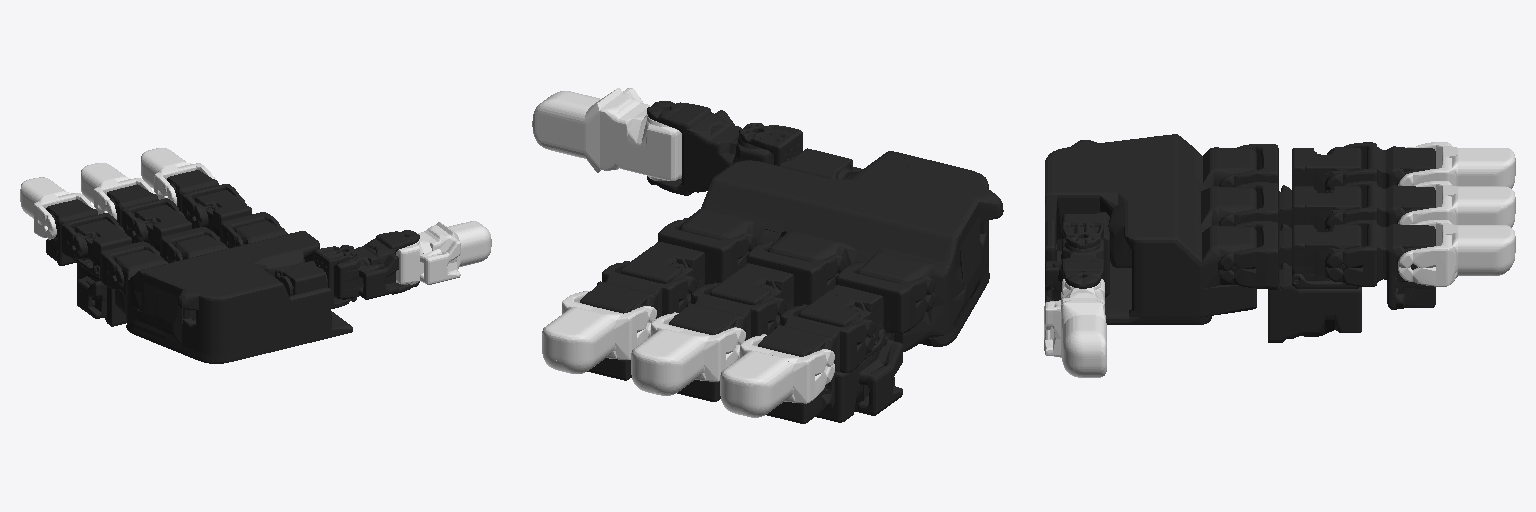
robot.urdf — onshape:
<robot name="onshape">
<link name="world"/>
<joint name="world_to_palm" type="fixed">
<parent link="world"/>
<child link="palm_lower"/>
<origin xyz="0.037 0.05 -0.037" rpy="-3.141592653589793 0 1.5707963267948966" />
</joint>


<link name="palm_lower">
<visual>
<origin xyz="-0.020095249652862544332 0.025757756134899473244 -0.034722403578460216134" rpy="0 -0 0" />
<geometry>
<mesh filename="palm_lower.obj"/>
</geometry>
<material name="black">
<color rgba="0.2 0.2 0.2 1"/>
</material>
</visual>
<collision>
<origin xyz="-0.020095249652862544332 0.025757756134899473244 -0.034722403578460216134" rpy="0 -0 0" />
<geometry>
<mesh filename="palm_lower.obj"/>
</geometry>
</collision>
<inertial>
<origin xyz="0 0 0" rpy="0 0 0"/>
<mass value="0.237" />
<inertia ixx="0.000354094" ixy="-0.000001193"  ixz="-0.000002445" iyy="0.000260915" iyz="-0.000002905" izz="0.000529257" />
</inertial>
</link>

<link name="mcp_joint">
<visual>
<origin xyz="0.0084069022611744960438 0.0077662438597169954416 0.014657354985032912051" rpy="1.6375789613220999807e-15 -1.0210473302491019535e-30 1.7177968783327987474e-31" />
<geometry>
<mesh filename="mcp_joint.obj"/>
</geometry>
<material name="black">
<color rgba="0.2 0.2 0.2 1"/>
</material>
</visual>
<collision>
<origin xyz="0.0084069022611744960438 0.0077662438597169954416 0.014657354985032912051" rpy="1.6375789613220999807e-15 -1.0210473302491019535e-30 1.7177968783327987474e-31" />
<geometry>
<mesh filename="mcp_joint.obj"/>
</geometry>
</collision>
<inertial>
<origin xyz="0 0 0" rpy="0 0 0"/>
<mass value="0.044" />
<inertia ixx="0.000011499" ixy="0.000003049"  ixz="0.000000121" iyy="0.000007796" iyz="0.000000112" izz="0.000014759" />
</inertial>
</link>

<link name="pip">
<visual>
<origin xyz="0.0096433630922713280131 0.00029999999999998951117 0.00078403401041737645627" rpy="-1.570796326794896558 -1.570796326794896336 0" />
<geometry>
<mesh filename="pip.obj"/>
</geometry>
<material name="black">
<color rgba="0.2 0.2 0.2 1"/>
</material>
</visual>
<collision>
<origin xyz="0.0096433630922713280131 0.00029999999999998951117 0.00078403401041737645627" rpy="-1.570796326794896558 -1.570796326794896336 0" />
<geometry>
<mesh filename="pip.obj"/>
</geometry>
</collision>
<inertial>
<origin xyz="0 0 0" rpy="0 0 0"/>
<mass value="0.032" />
<inertia ixx="0.000004798" ixy="0.000000012"  ixz="0.000000004" iyy="0.000002862" iyz="0.000000011" izz="0.000004234" />
</inertial>
</link>

<link name="dip">
<visual>
<origin xyz="0.021133352895225002849 -0.0084321191467048792201 0.0097850881620952408213" rpy="-3.141592653589793116 4.5075111242164408299e-32 4.4395481053923607589e-32" />
<geometry>
<mesh filename="dip.obj"/>
</geometry>
<material name="black">
<color rgba="0.2 0.2 0.2 1"/>
</material>
</visual>
<collision>
<origin xyz="0.021133352895225002849 -0.0084321191467048792201 0.0097850881620952408213" rpy="-3.141592653589793116 4.5075111242164408299e-32 4.4395481053923607589e-32" />
<geometry>
<mesh filename="dip.obj"/>
</geometry>
</collision>
<inertial>
<origin xyz="0 0 0" rpy="0 0 0"/>
<mass value="0.037" />
<inertia ixx="0.000005542" ixy="-0.000000607"  ixz="-0.000000017" iyy="0.000005727" iyz="-0.000000023" izz="0.000006682" />
</inertial>
</link>

<link name="fingertip">
<visual>
<origin xyz="0.013286424108533503169 -0.0061142383865419869249 0.014499999999999497666" rpy="3.141592653589793116 1.1993117970061734707e-33 4.4395481053923607589e-32" />
<geometry>
<mesh filename="fingertip.obj"/>
</geometry>
<material name="white">
<color rgba=".9 .9 .9 1"/>
</material>
</visual>
<!-- <collision>
<origin xyz="0.013286424108533503169 -0.0061142383865419869249 0.014499999999999497666" rpy="3.141592653589793116 1.1993117970061734707e-33 4.4395481053923607589e-32" />
<geometry>
<mesh filename="fingertip.obj"/>
</geometry>
</collision> -->
<inertial>
<origin xyz="0 0 0" rpy="0 0 0"/>
<mass value="0.016" />
<inertia ixx="0.000003368" ixy="0.000000115"  ixz="0" iyy="0.000001556" iyz="0" izz="0.000002863" />
</inertial>
</link>

<joint name="0" type="revolute">
<origin xyz="-0.012200000000000007713 0.038099999999999994982 0.014500000000000000736" rpy="-1.570796326794896558 -1.0065212660796336576e-15 1.5707963267948943376" />
<parent link="mcp_joint" />
<child link="pip" />
<axis xyz="0 0 -1"/>
<limit effort="0.95" velocity="8.48" lower = "-1.047" upper = "1.047"/>
<joint_properties friction="0.0"/>
</joint>

<joint name="1" type="revolute">
<origin xyz="-0.0070952496528625457958 0.023057756134899472233 -0.01872240357846021927" rpy="1.5707963267948950037 1.5707963267948945596 0" />
<parent link="palm_lower" />
<child link="mcp_joint" />
<axis xyz="0 0 -1"/>
<limit effort="0.95" velocity="8.48" lower = "-0.314" upper = "2.23"/>
<joint_properties friction="0.0"/>
</joint>

<joint name="2" type="revolute">
<origin xyz="0.01499999999999996822 0.014299999999999904801 -0.012999999999999824196" rpy="1.5707963267948958919 -1.570796326794896336 0" />
<parent link="pip" />
<child link="dip" />
<axis xyz="0 0 -1"/>
<limit effort="0.95" velocity="8.48" lower = "-0.506" upper = "1.885"/>  
<joint_properties friction="0.0"/>
</joint>

<joint name="3" type="revolute">
<origin xyz="-4.0880582495572692636e-09 -0.036100004210367367397 0.00020000000000007858714" rpy="4.5935029425113685044e-17 -2.8730071914463794583e-16 4.4395481053923607589e-32" />
<parent link="dip" />
<child link="fingertip" />
<axis xyz="0 0 -1"/>
<limit effort="0.95" velocity="8.48" lower = "-0.366" upper = "2.042"/>   
<joint_properties friction="0.0"/>
</joint>


<link name="index_tip">
<!-- <visual>
<geometry>
<sphere radius="0.0134"/>
</geometry>
<material name="blue">
<color rgba="0.0 0.0 1.0 1.0"/>
</material>
</visual> -->
<collision>
<geometry>
<sphere radius="0.0134"/>
</geometry>
</collision>
<inertial>
<origin xyz="0 0 0" rpy="0 0 0"/>
<mass value="0.016" />
<inertia ixx="0.0" ixy="0.0"  ixz="0" iyy="0.0" iyz="0.0" izz="0.0" />
</inertial>
</link>

<joint name="index_tip_joint" type="fixed">
<parent link="fingertip"/>
<child link="index_tip"/>
<origin rpy="0 0 0" xyz="-0.0015 -0.0382 0.0145"/>
</joint>


<link name="mcp_joint_2">
<visual>
<origin xyz="0.0084069022611744960438 0.0077662438597169954416 0.014657354985032913786" rpy="1.6375789613220999807e-15 -1.0076465469034000467e-30 2.1209300131419907151e-61" />
<geometry>
<mesh filename="mcp_joint.obj"/>
</geometry>
<material name="black">
<color rgba=".2 .2 .2 1"/>
</material>
</visual>
<collision>
<origin xyz="0.0084069022611744960438 0.0077662438597169954416 0.014657354985032913786" rpy="1.6375789613220999807e-15 -1.0076465469034000467e-30 2.1209300131419907151e-61" />
<geometry>
<mesh filename="mcp_joint.obj"/>
</geometry>
</collision>
<inertial>
<origin xyz="0 0 0" rpy="0 0 0"/>
<mass value="0.044" />
<inertia ixx="0.000011499" ixy="0.000003049"  ixz="0.000000121" iyy="0.000007796" iyz="0.000000112" izz="0.000014759" />
</inertial>
</link>

<link name="pip_2">
<visual>
<origin xyz="0.0096433630922713280131 0.00029999999999999471534 0.00078403401041737645627" rpy="-1.570796326794896558 -1.570796326794896336 0" />
<geometry>
<mesh filename="pip.obj"/>
</geometry>
<material name="black">
<color rgba=".2 .2 .2 1"/>
</material>
</visual>
<collision>
<origin xyz="0.0096433630922713280131 0.00029999999999999471534 0.00078403401041737645627" rpy="-1.570796326794896558 -1.570796326794896336 0" />
<geometry>
<mesh filename="pip.obj"/>
</geometry>
</collision>
<inertial>
<origin xyz="0 0 0" rpy="0 0 0"/>
<mass value="0.032" />
<inertia ixx="0.000004798" ixy="0.000000012"  ixz="0.000000004" iyy="0.000002862" iyz="0.000000011" izz="0.000004234" />
</inertial>
</link>

<link name="dip_2">
<visual>
<origin xyz="0.021133352895225002849 -0.0084321191467048653423 0.0097850881620952373519" rpy="-3.141592653589793116 2.1146933785271955805e-32 1.4408183216511868558e-31" />
<geometry>
<mesh filename="dip.obj"/>
</geometry>
<material name="black">
<color rgba=".2 .2 .2 1"/>
</material>
</visual>
<collision>
<origin xyz="0.021133352895225002849 -0.0084321191467048653423 0.0097850881620952373519" rpy="-3.141592653589793116 2.1146933785271955805e-32 1.4408183216511868558e-31" />
<geometry>
<mesh filename="dip.obj"/>
</geometry>
</collision>
<inertial>
<origin xyz="0 0 0" rpy="0 0 0"/>
<mass value="0.037" />
<inertia ixx="0.000005542" ixy="-0.000000607"  ixz="-0.000000017" iyy="0.000005727" iyz="-0.000000023" izz="0.000006682" />
</inertial>
</link>

<link name="fingertip_2">
<visual>
<origin xyz="0.01328642410853349623 -0.0061142383865420008027 0.014499999999999495931" rpy="3.141592653589793116 -4.3179597882835943107e-33 1.4408183216511868558e-31" />
<geometry>
<mesh filename="fingertip.obj"/>
</geometry>
<material name="white">
<color rgba=".9 .9 .9 1"/>
</material>
</visual>
<!-- <collision>
<origin xyz="0.01328642410853349623 -0.0061142383865420008027 0.014499999999999495931" rpy="3.141592653589793116 -4.3179597882835943107e-33 1.4408183216511868558e-31" />
<geometry>
<mesh filename="fingertip.obj"/>
</geometry>
</collision> -->
<inertial>
<origin xyz="0 0 0" rpy="0 0 0"/>
<mass value="0.016" />
<inertia ixx="0.000003368" ixy="0.000000115"  ixz="0" iyy="0.000001556" iyz="0" izz="0.000002863" />
</inertial>
</link>

<joint name="4" type="revolute">
<origin xyz="-0.012200000000000019856 0.038099999999999981104 0.01450000000000000594" rpy="-1.570796326794896558 -1.0065212760057939085e-15 1.5707963267948943376" />
<parent link="mcp_joint_2" />
<child link="pip_2" />
<axis xyz="0 0 -1"/>
<limit effort="0.95" velocity="8.48" lower = "-1.047" upper = "1.047"/>
<joint_properties friction="0.0"/>
</joint>

<joint name="5" type="revolute">
<origin xyz="-0.0070952496528625388569 -0.022392243865100525113 -0.018722403578460229678" rpy="1.570796326794896558 1.570796326794896558 0" />
<parent link="palm_lower" />
<child link="mcp_joint_2" />
<axis xyz="0 0 -1"/>
<limit effort="0.95" velocity="8.48" lower = "-0.314" upper = "2.23"/>
<joint_properties friction="0.0"/>
</joint>

<joint name="6" type="revolute">
<origin xyz="0.014999999999999975159 0.014300000000000000211 -0.013000000000000018485" rpy="1.5707963267948958919 -1.570796326794896336 0" />
<parent link="pip_2" />
<child link="dip_2" />
<axis xyz="0 0 -1"/>
<limit effort="0.95" velocity="8.48" lower = "-0.506" upper = "1.885"/>  
<joint_properties friction="0.0"/>
</joint>

<joint name="7" type="revolute">
<origin xyz="1.0061396160665481148e-16 -0.036099999999999854428 0.00020000000000007858714" rpy="4.5935029425113654229e-17 -2.8730071914463794583e-16 1.4408183216511868558e-31" />
<parent link="dip_2" />
<child link="fingertip_2" />
<axis xyz="0 0 -1"/>
<limit effort="0.95" velocity="8.48" lower = "-0.366" upper = "2.042"/>   
<joint_properties friction="0.0"/>
</joint>


<link name="middle_tip">
<!-- <visual>
<geometry>
<sphere radius="0.0134"/>
</geometry>
<material name="blue">
<color rgba="0.0 0.0 1.0 1.0"/>
</material>
</visual> -->
<collision>
<geometry>
<sphere radius="0.0134"/>
</geometry>
</collision>
<inertial>
<origin xyz="0 0 0" rpy="0 0 0"/>
<mass value="0.016" />
<inertia ixx="0.0" ixy="0.0"  ixz="0" iyy="0.0" iyz="0.0" izz="0.0" />
</inertial>
</link>

<joint name="middle_tip_joint" type="fixed">
<parent link="fingertip_2"/>
<child link="middle_tip"/>
<origin rpy="0 0 0" xyz="-0.0015 -0.0382 0.0145"/>
</joint>


<link name="mcp_joint_3">
<visual>
<origin xyz="0.0084069022611744995133 0.0077662438597169963089 0.014657354985032913786" rpy="1.6375789613220999807e-15 -1.0059504988632626953e-30 5.729641584552035421e-32" />
<geometry>
<mesh filename="mcp_joint.obj"/>
</geometry>
<material name="black">
<color rgba=".2 .2 .2 1"/>
</material>
</visual>
<collision>
<origin xyz="0.0084069022611744995133 0.0077662438597169963089 0.014657354985032913786" rpy="1.6375789613220999807e-15 -1.0059504988632626953e-30 5.729641584552035421e-32" />
<geometry>
<mesh filename="mcp_joint.obj"/>
</geometry>
</collision>
<inertial>
<origin xyz="0 0 0" rpy="0 0 0"/>
<mass value="0.044" />
<inertia ixx="0.000011499" ixy="0.000003049"  ixz="0.000000121" iyy="0.000007796" iyz="0.000000112" izz="0.000014759" />
</inertial>
</link>

<link name="pip_3">
<visual>
<origin xyz="0.0096433630922713314826 0.00029999999999998083755 0.00078403401041737645627" rpy="-1.570796326794896558 -1.570796326794896336 0" />
<geometry>
<mesh filename="pip.obj"/>
</geometry>
<material name="black">
<color rgba=".2 .2 .2 1"/>
</material>
</visual>
<collision>
<origin xyz="0.0096433630922713314826 0.00029999999999998083755 0.00078403401041737645627" rpy="-1.570796326794896558 -1.570796326794896336 0" />
<geometry>
<mesh filename="pip.obj"/>
</geometry>
</collision>
<inertial>
<origin xyz="0 0 0" rpy="0 0 0"/>
<mass value="0.032" />
<inertia ixx="0.000004798" ixy="0.000000012"  ixz="0.000000004" iyy="0.000002862" iyz="0.000000011" izz="0.000004234" />
</inertial>
</link>

<link name="dip_3">
<visual>
<origin xyz="0.021133352895225006318 -0.0084321191467048653423 0.0097850881620952373519" rpy="-3.141592653589793116 -1.4095651113919093005e-33 1.5565411607615035382e-32" />
<geometry>
<mesh filename="dip.obj"/>
</geometry>
<material name="black">
<color rgba=".2 .2 .2 1"/>
</material>
</visual>
<collision>
<origin xyz="0.021133352895225006318 -0.0084321191467048653423 0.0097850881620952373519" rpy="-3.141592653589793116 -1.4095651113919093005e-33 1.5565411607615035382e-32" />
<geometry>
<mesh filename="dip.obj"/>
</geometry>
</collision>
<inertial>
<origin xyz="0 0 0" rpy="0 0 0"/>
<mass value="0.037" />
<inertia ixx="0.000005542" ixy="-0.000000607"  ixz="-0.000000017" iyy="0.000005727" iyz="-0.000000023" izz="0.000006682" />
</inertial>
</link>

<link name="fingertip_3">
<visual>
<origin xyz="0.013286424108533501434 -0.0061142383865419869249 0.0144999999999994994" rpy="3.141592653589793116 8.6170716950575402125e-33 1.5565411607615035382e-32" />
<geometry>
<mesh filename="fingertip.obj"/>
</geometry>
<material name="white">
<color rgba=".9 .9 .9 1"/>
</material>
</visual>
<!-- <collision>
<origin xyz="0.013286424108533501434 -0.0061142383865419869249 0.0144999999999994994" rpy="3.141592653589793116 8.6170716950575402125e-33 1.5565411607615035382e-32" />
<geometry>
<mesh filename="fingertip.obj"/>
</geometry>
</collision> -->
<inertial>
<origin xyz="0 0 0" rpy="0 0 0"/>
<mass value="0.016" />
<inertia ixx="0.000003368" ixy="0.000000115"  ixz="0" iyy="0.000001556" iyz="0" izz="0.000002863" />
</inertial>
</link>

<joint name="8" type="revolute">
<origin xyz="-0.012200000000000004244 0.038100000000000001921 0.014499999999999999001" rpy="-1.570796326794896558 -1.0065212660796360242e-15 1.5707963267948943376" />
<parent link="mcp_joint_3" />
<child link="pip_3" />
<axis xyz="0 0 -1"/>
<limit effort="0.95" velocity="8.48" lower = "-1.047" upper = "1.047"/>
<joint_properties friction="0.0"/>
</joint>

<joint name="9" type="revolute">
<origin xyz="-0.0070952454426398371343 -0.067842243865100515521 -0.018722407666402932774" rpy="1.5707963267948950037 1.5707963267948945596 0" />
<parent link="palm_lower" />
<child link="mcp_joint_3" />
<axis xyz="0 0 -1"/>
<limit effort="0.95" velocity="8.48" lower = "-0.314" upper = "2.23"/>
<joint_properties friction="0.0"/>
</joint>

<joint name="10" type="revolute">
<origin xyz="0.014999999999999971689 0.014299999999999951639 -0.012999999999999959505" rpy="1.5707963267948958919 -1.570796326794896336 0" />
<parent link="pip_3" />
<child link="dip_3" />
<axis xyz="0 0 -1"/>
<limit effort="0.95" velocity="8.48" lower = "-0.506" upper = "1.885"/>  
<joint_properties friction="0.0"/>
</joint>

<joint name="11" type="revolute">
<origin xyz="9.7144514654701197287e-17 -0.036099999999999868305 0.00020000000000007511769" rpy="4.5935029425113685044e-17 -2.8730071914463799514e-16 1.5565411607615035382e-32" />
<parent link="dip_3" />
<child link="fingertip_3" />
<axis xyz="0 0 -1"/>
<limit effort="0.95" velocity="8.48" lower = "-0.366" upper = "2.042"/>   
<joint_properties friction="0.0"/>
</joint>


<link name="ring_tip">
<!-- <visual>
<geometry>
<sphere radius="0.0134"/>
</geometry>
<material name="blue">
<color rgba="0.0 0.0 1.0 1.0"/>
</material>
</visual> -->
<collision>
<geometry>
<sphere radius="0.0134"/>
</geometry>
</collision>
<inertial>
<origin xyz="0 0 0" rpy="0 0 0"/>
<mass value="0.016" />
<inertia ixx="0.0" ixy="0.0"  ixz="0" iyy="0.0" iyz="0.0" izz="0.0" />
</inertial>
</link>

<joint name="ring_tip_joint" type="fixed">
<parent link="fingertip_3"/>
<child link="ring_tip"/>
<origin rpy="0 0 0" xyz="-0.0015 -0.0382 0.0145"/>
</joint>


<link name="pip_4">
<visual>
<origin xyz="-0.0053566369077286714317 0.00029999999999999991951 0.00078403401041737819099" rpy="-1.570796326794896558 -1.570796326794896336 0" />
<geometry>
<mesh filename="pip.obj"/>
</geometry>
<material name="black">
<color rgba=".2 .2 .2 1"/>
</material>
</visual>
<collision>
<origin xyz="-0.0053566369077286714317 0.00029999999999999991951 0.00078403401041737819099" rpy="-1.570796326794896558 -1.570796326794896336 0" />
<geometry>
<mesh filename="pip.obj"/>
</geometry>
</collision>
<inertial>
<origin xyz="0 0 0" rpy="0 0 0"/>
<mass value="0.032" />
<inertia ixx="0.000004798" ixy="0.000000012"  ixz="0.000000004" iyy="0.000002862" iyz="0.000000011" izz="0.000004234" />
</inertial>
</link>

<link name="thumb_pip">
<visual>
<origin xyz="0.011961920770611186859 -5.3082538364890297089e-16 -0.015852648956664199681" rpy="1.570796326794896558 1.6050198443300152637e-46 -3.9204996250525192755e-59" />
<geometry>
<mesh filename="thumb_pip.obj"/>
</geometry>
<material name="black">
<color rgba=".2 .2 .2 1"/>
</material>
</visual>
<collision>
<origin xyz="0.011961920770611186859 -5.3082538364890297089e-16 -0.015852648956664199681" rpy="1.570796326794896558 1.6050198443300152637e-46 -3.9204996250525192755e-59" />
<geometry>
<mesh filename="thumb_pip.obj"/>
</geometry>
</collision>
<inertial>
<origin xyz="0 0 0" rpy="0 0 0"/>
<mass value="0.003" />
<inertia ixx="0.000000593" ixy="0"  ixz="0" iyy="0.000000549" iyz="0" izz="0.000000224" />
</inertial>
</link>

<link name="thumb_dip">
<visual>
<origin xyz="0.043968715707239175439 0.057952952973709198625 -0.0086286764493694757122" rpy="1.9428902930940098942e-16 3.2751579226442200773e-15 1.1123758529657360012e-46" />
<geometry>
<mesh filename="thumb_dip.obj"/>
</geometry>
<material name="black">
<color rgba=".2 .2 .2 1"/>
</material>
</visual>
<collision>
<origin xyz="0.043968715707239175439 0.057952952973709198625 -0.0086286764493694757122" rpy="1.9428902930940098942e-16 3.2751579226442200773e-15 1.1123758529657360012e-46" />
<geometry>
<mesh filename="thumb_dip.obj"/>
</geometry>
</collision>
<inertial>
<origin xyz="0 0 0" rpy="0 0 0"/>
<mass value="0.038" />
<inertia ixx="0.000008474" ixy="0.000000241"  ixz="0.000000026" iyy="0.000003841" iyz="0.000000025" izz="0.000007679" />
</inertial>
</link>

<link name="thumb_fingertip">
<visual>
<origin xyz="0.062559538462667388381 0.078459682911396988469 0.048992911807332215068" rpy="4.3790577010156367543e-47 -3.3306690738754701143e-16 1.2042408677791935383e-46" />
<geometry>
<mesh filename="thumb_fingertip.obj"/>
</geometry>
<material name="white">
<color rgba=".9 .9 .9 1"/>
</material>
</visual>
<!-- <collision>
<origin xyz="0.062559538462667388381 0.078459682911396988469 0.048992911807332215068" rpy="4.3790577010156367543e-47 -3.3306690738754701143e-16 1.2042408677791935383e-46" />
<geometry>
<mesh filename="thumb_fingertip.obj"/>
</geometry>
</collision> -->
<inertial>
<origin xyz="0 0 0" rpy="0 0 0"/>
<mass value="0.049" />
<inertia ixx="0.000020372" ixy="-0.000000489"  ixz="-0.00000003" iyy="0.000004336" iyz="-0.000000097" izz="0.000019845" />
</inertial>
</link>

<joint name="12" type="revolute">
<origin xyz="-0.069395249652862533996 -0.0012422438651005258004 -0.021622403578460215601" rpy="-8.2381766464939424156e-17 1.5707963267948956698 0" />
<parent link="palm_lower" />
<child link="pip_4" />
<axis xyz="0 0 -1"/>
<limit effort="0.95" velocity="8.48" lower = "-0.349" upper = "2.094"/> 
<joint_properties friction="0.0"/>
</joint>

<joint name="13" type="revolute">
<origin xyz="-2.7755575615628913511e-17 0.014300000000000005415 -0.013000000000000011546" rpy="1.5707963267948958919 -1.570796326794896336 0" />
<parent link="pip_4" />
<child link="thumb_pip" />
<axis xyz="0 0 -1"/>
<limit effort="0.95" velocity="8.48" lower = "-0.47" upper = "2.443"/> 
<joint_properties friction="0.0"/>
</joint>

<joint name="14" type="revolute">
<origin xyz="0 0.014499999999999966041 -0.017000000000000053263" rpy="-1.570796326794896558 1.6050198443300131245e-46 -1.9721522630516624601e-31" />
<parent link="thumb_pip" />
<child link="thumb_dip" />
<axis xyz="0 0 -1"/>
<limit effort="0.95" velocity="8.48" lower = "-1.20" upper = "1.90"/> 
<joint_properties friction="0.0"/>
</joint>

<joint name="15" type="revolute">
<origin xyz="-1.249000902703301108e-16 0.046599999999999863753 0.00019999999999997710581" rpy="1.5063958491491781023e-44 5.4234187233935260503e-31 3.141592653589793116" />
<parent link="thumb_dip" />
<child link="thumb_fingertip" />
<axis xyz="0 0 -1"/>
<limit effort="0.95" velocity="8.48" lower = "-1.34" upper = "1.88"/> 
<joint_properties friction="0.0"/>
</joint>


<link name="thumb_tip">
<!-- <visual>
<geometry>
<sphere radius="0.0134"/>
</geometry>
<material name="blue">
<color rgba="0.0 0.0 1.0 1.0"/>
</material>
</visual> -->
<collision>
<geometry>
<sphere radius="0.0134"/>
</geometry>
</collision>
<inertial>
<origin xyz="0 0 0" rpy="0 0 0"/>
<mass value="0.016" />
<inertia ixx="0.0" ixy="0.0"  ixz="0" iyy="0.0" iyz="0.0" izz="0.0" />
</inertial>
</link>

<joint name="thumb_tip_joint" type="fixed">
<parent link="thumb_fingertip"/>
<child link="thumb_tip"/>
<origin rpy="0 0 0" xyz="-0.0015 -0.051 -0.0143"/>
</joint>


</robot>

--- What the picture shows (computed from the rendered views, not written in the file) ---
The picture shows the robot from 3 angles, left to right: view 1: azimuth 30°, elevation 25°; view 2: azimuth 150°, elevation 25°; view 3: azimuth 270°, elevation 25°; orthographic projection.
Robot: onshape — 22 links, 21 joints (16 revolute, 5 fixed); root link world; default pose: all joints at 0.
Visible links, largest first — view 1: palm_lower, thumb_fingertip, thumb_dip, mcp_joint_3, dip_3, fingertip_3, fingertip, fingertip_2, dip, dip_2, pip_3, pip_2 (+5 smaller); view 2: palm_lower, thumb_fingertip, mcp_joint_3, fingertip_3, fingertip_2, fingertip, thumb_dip, dip_3, dip_2, dip, pip_3, mcp_joint (+5 smaller); view 3: palm_lower, mcp_joint, dip, fingertip, thumb_fingertip, fingertip_2, fingertip_3, pip, dip_3, dip_2, thumb_dip, pip_2 (+5 smaller).
Link boxes in pixels (box(x1,y1,x2,y2)): palm_lower: box(115, 220, 352, 363); thumb_fingertip: box(396, 221, 491, 284); thumb_dip: box(334, 230, 419, 299); mcp_joint_3: box(77, 241, 163, 326); dip_3: box(46, 199, 124, 265); fingertip_3: box(20, 177, 95, 239); fingertip: box(141, 148, 215, 205); fingertip_2: box(81, 163, 155, 219); dip: box(167, 170, 244, 228); dip_2: box(107, 184, 184, 243); pip_3: box(73, 219, 131, 276); pip_2: box(135, 205, 191, 253); palm_lower: box(679, 151, 1003, 351); thumb_fingertip: box(532, 88, 681, 180); mcp_joint_3: box(816, 262, 935, 422); fingertip_3: box(720, 334, 834, 417); fingertip_2: box(631, 312, 745, 395); fingertip: box(542, 291, 656, 373); thumb_dip: box(647, 101, 773, 195); dip_3: box(758, 304, 875, 423); dip_2: box(669, 282, 786, 401); dip: box(580, 261, 697, 380); pip_3: box(799, 285, 887, 362); mcp_joint: box(658, 218, 756, 284); palm_lower: box(1045, 134, 1256, 324); mcp_joint: box(1218, 221, 1361, 342); dip: box(1325, 220, 1435, 309); fingertip: box(1398, 220, 1515, 286); thumb_fingertip: box(1044, 279, 1106, 377); fingertip_2: box(1398, 181, 1515, 227); fingertip_3: box(1398, 142, 1515, 188); pip: box(1292, 225, 1361, 288); dip_3: box(1325, 142, 1435, 192); dip_2: box(1325, 181, 1435, 231); thumb_dip: box(1045, 239, 1103, 302); pip_2: box(1292, 186, 1361, 231).
Size in the robot's own frame: 0.2409 by 0.2337 by 0.0642 metres.
Meshes: 8 distinct files referenced, 17 mesh visuals loaded (8 OBJ).